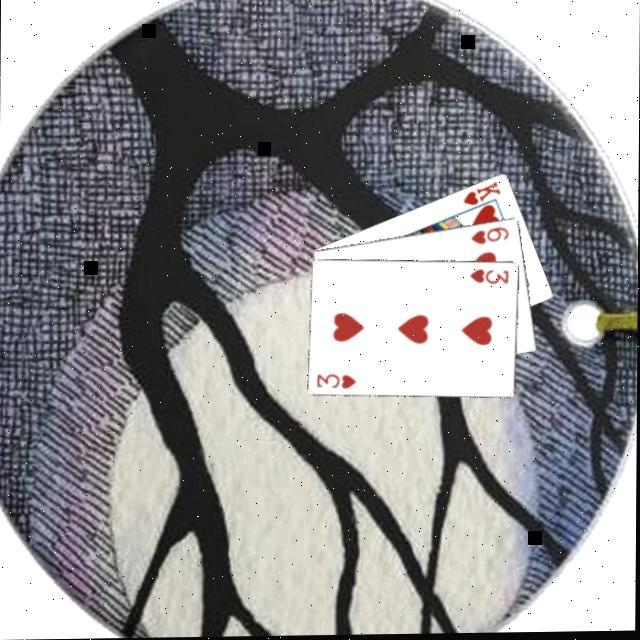3H: (316, 369, 361, 392), (468, 266, 514, 288)
6H: (469, 224, 514, 248)
KH: (462, 178, 504, 209)
